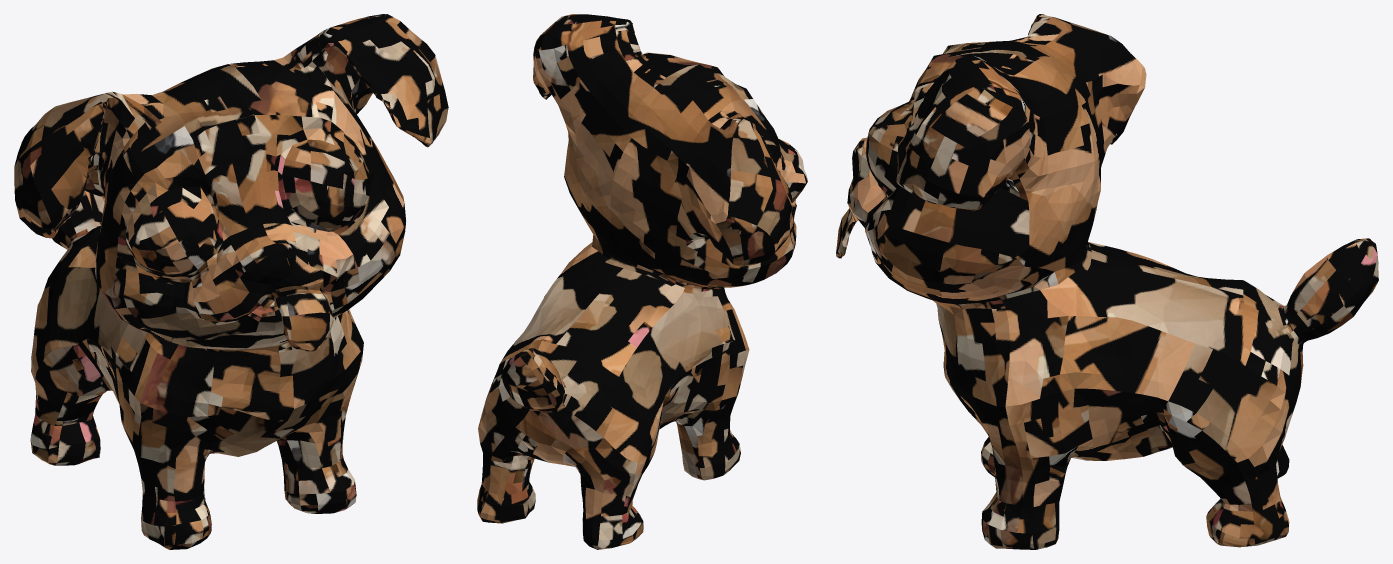
File: LowPoly_Dog_Low10k.fbx
3 views of the same model, side by side, from view 1: azimuth 30°, elevation 25°; view 2: azimuth 150°, elevation 25°; view 3: azimuth 270°, elevation 25° (orthographic). The views are drawn at different scales.
Parts seen in each view (by area): view 1: LowPoly_Dog_Low.004; view 2: LowPoly_Dog_Low.004; view 3: LowPoly_Dog_Low.004.
Part boxes in pixels (bbox=[...]): LowPoly_Dog_Low.004: bbox=[14, 14, 448, 549]; LowPoly_Dog_Low.004: bbox=[477, 14, 807, 549]; LowPoly_Dog_Low.004: bbox=[836, 14, 1378, 549].
Size of the model in its own units: 72.63 by 96.68 by 99.3.
1 material, 1 textured.
